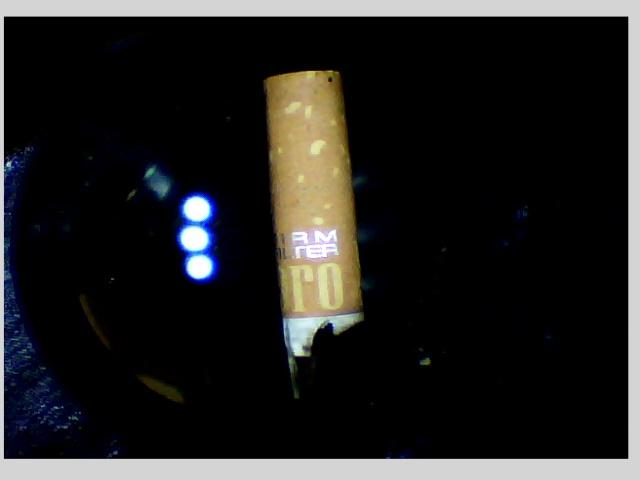megot: (248, 61, 371, 401)
